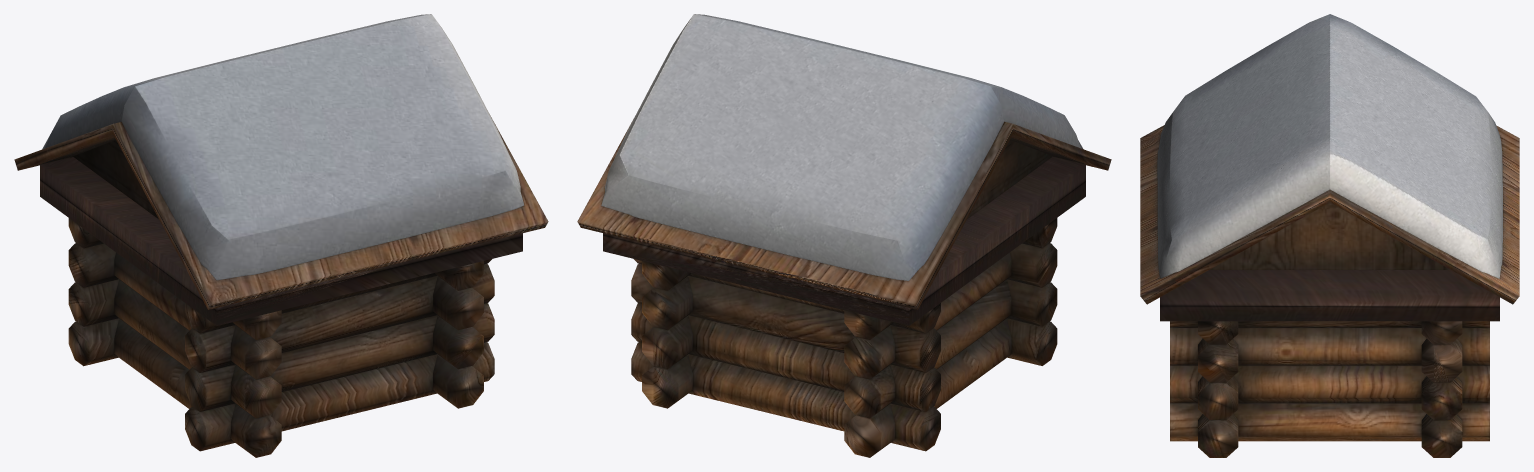
The model's file is track5Building1.glb.
The picture shows the model from 3 angles, left to right: view 1: azimuth 30°, elevation 25°; view 2: azimuth 150°, elevation 25°; view 3: azimuth 270°, elevation 25°; orthographic projection. The views are drawn at different scales.
Visible parts, largest first — view 1: snow_roof.002; view 2: snow_roof.002; view 3: snow_roof.002.
Part boxes in pixels (x1=…): snow_roof.002: x1=14, y1=14, x2=548, y2=457; snow_roof.002: x1=577, y1=14, x2=1111, y2=457; snow_roof.002: x1=1140, y1=14, x2=1519, y2=457.
Bounding box in the file's own units: 2.65 × 2.41 × 2.68.
Materials: 1 (1 with a texture image).
